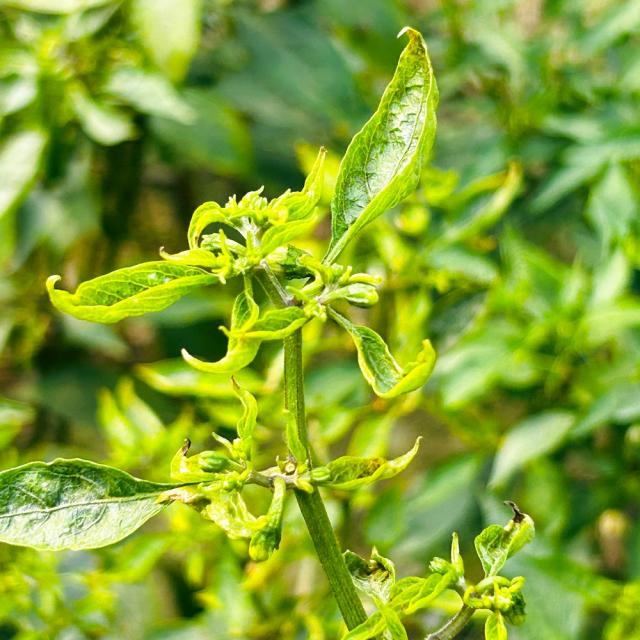Chilli_Leaf_Curl: (2, 25, 534, 638), (44, 144, 437, 398), (321, 25, 440, 265), (338, 499, 535, 639), (0, 456, 180, 552)
